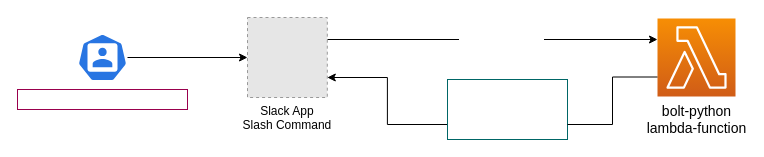
Some shapes in this 764 by 157 pixel diagram are drawn without their labels. Grey dashed boxes stand in for pictures. Here are the shapes that lost their labels. From the top down, the centre of each, then its label:
At pixel 102 99: "/hello-bolt-python-lambda".
At pixel 507 109: "respose to slack ack() say()".
